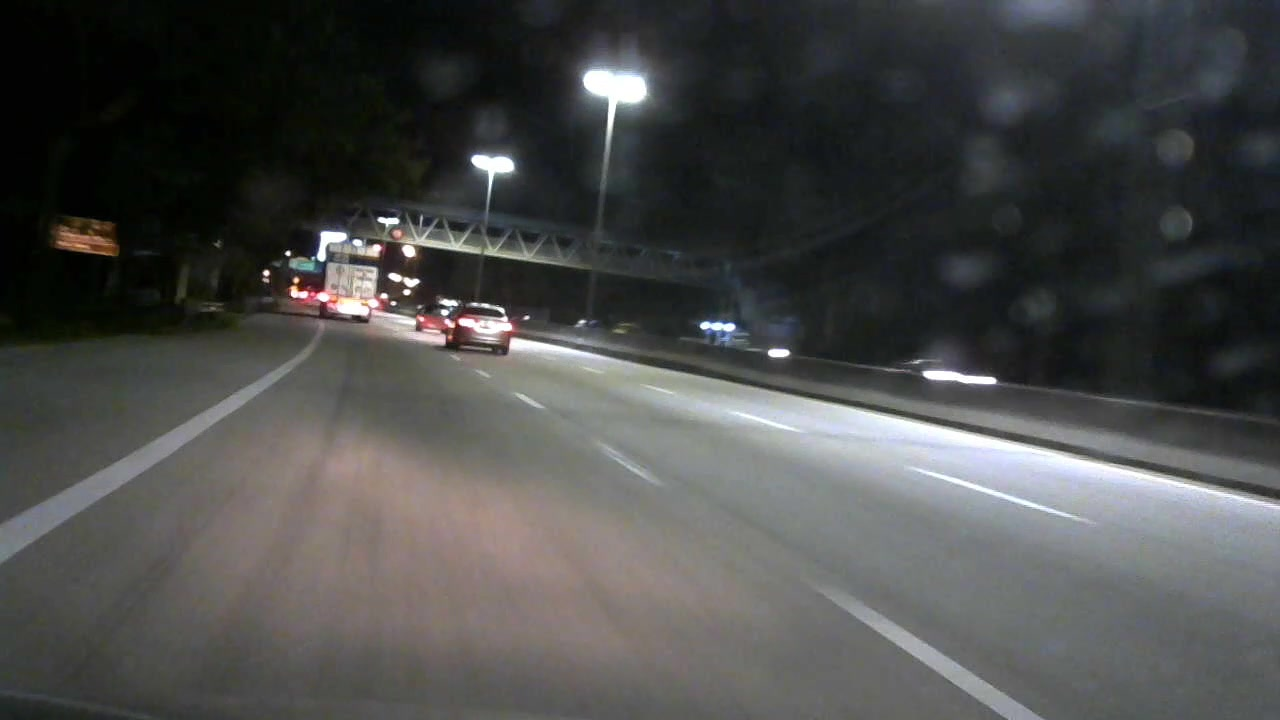Car: (443, 300, 517, 358), (405, 296, 455, 338)
